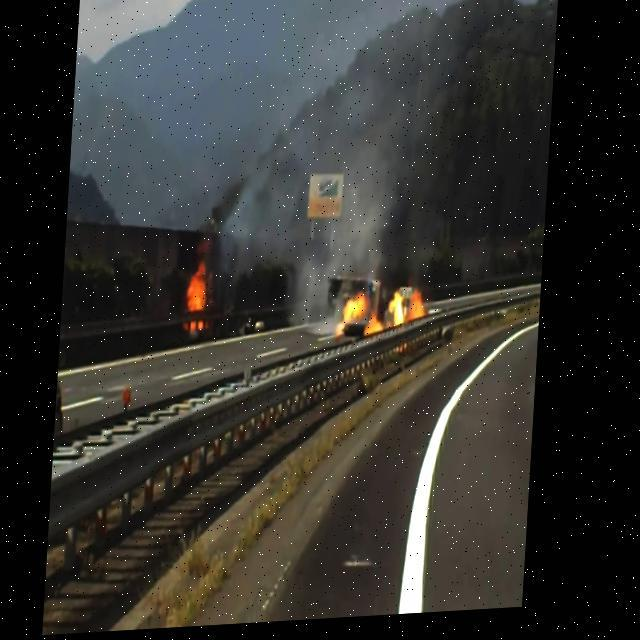Fire: (336, 294, 391, 342), (183, 262, 212, 332), (392, 290, 432, 331)
